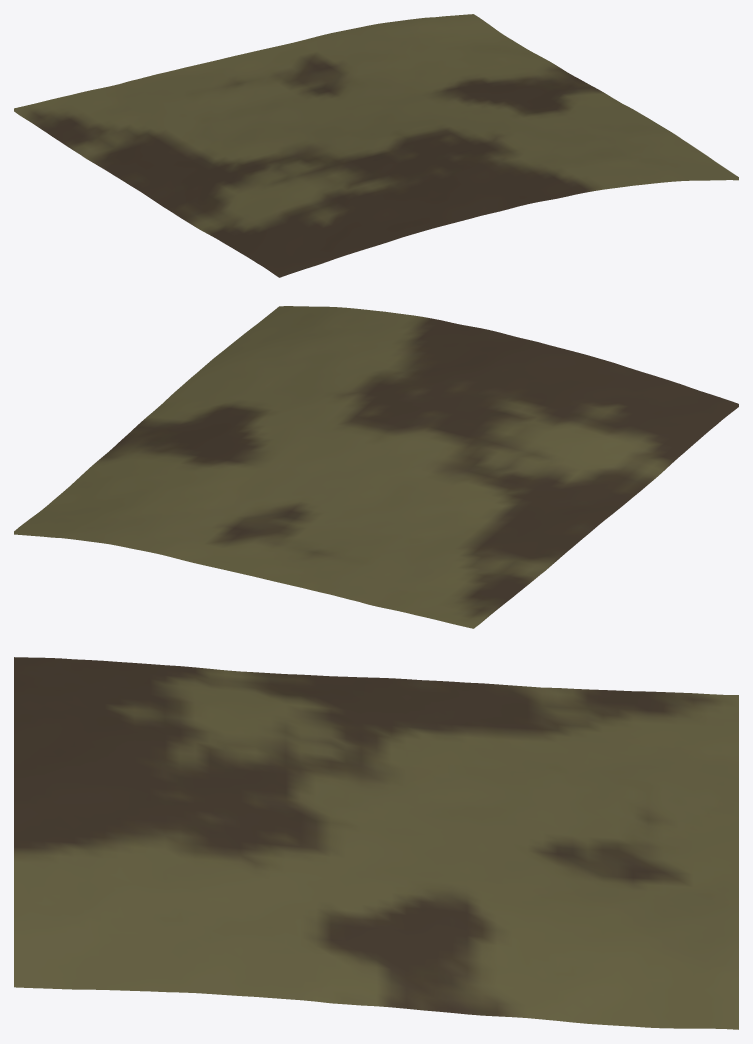
File: land_m_05_06.glb
The picture shows the model from 3 angles, top to bottom: view 1: azimuth 30°, elevation 25°; view 2: azimuth 150°, elevation 25°; view 3: azimuth 270°, elevation 25°; orthographic projection. The views are drawn at different scales.
Visible parts, largest first — view 1: land_m_05_06; view 2: land_m_05_06; view 3: land_m_05_06.
Part boxes in pixels (box(x1,y1,x2,y2)): land_m_05_06: box(14, 14, 738, 277); land_m_05_06: box(14, 306, 738, 628); land_m_05_06: box(14, 657, 738, 1029).
Size of the model in its own units: 960 by 123 by 960.
